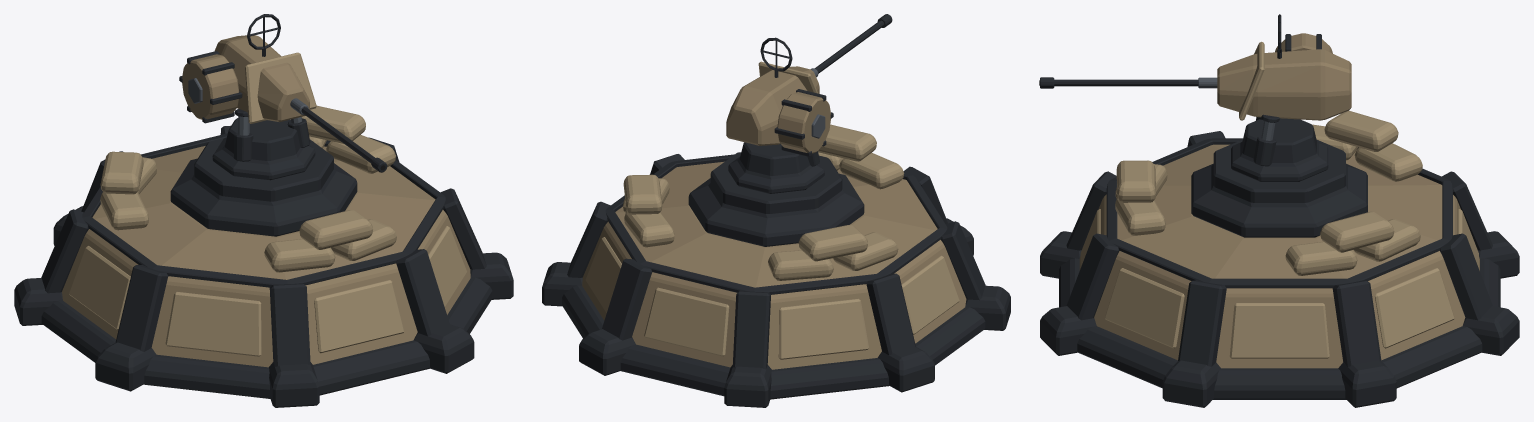
Rendered from aa3-halcon-n1.glb.
3 views of the same model, side by side, from view 1: azimuth 30°, elevation 25°; view 2: azimuth 150°, elevation 25°; view 3: azimuth 270°, elevation 25° (orthographic). The views are drawn at different scales.
Parts seen in each view (by area): view 1: casco, gun_pitch, turret_yaw; view 2: casco, gun_pitch, turret_yaw; view 3: casco, gun_pitch, turret_yaw.
Boxes of the visible parts, left/top/right/bottom form: casco: left=14, top=105, right=513, bottom=407; gun_pitch: left=179, top=14, right=387, bottom=172; turret_yaw: left=212, top=108, right=315, bottom=180; casco: left=542, top=124, right=1010, bottom=407; gun_pitch: left=726, top=14, right=892, bottom=156; turret_yaw: left=728, top=142, right=824, bottom=193; casco: left=1040, top=110, right=1519, bottom=407; gun_pitch: left=1039, top=14, right=1351, bottom=120; turret_yaw: left=1231, top=114, right=1328, bottom=181.
Size of the model in its own units: 1 by 0.6714 by 1.
